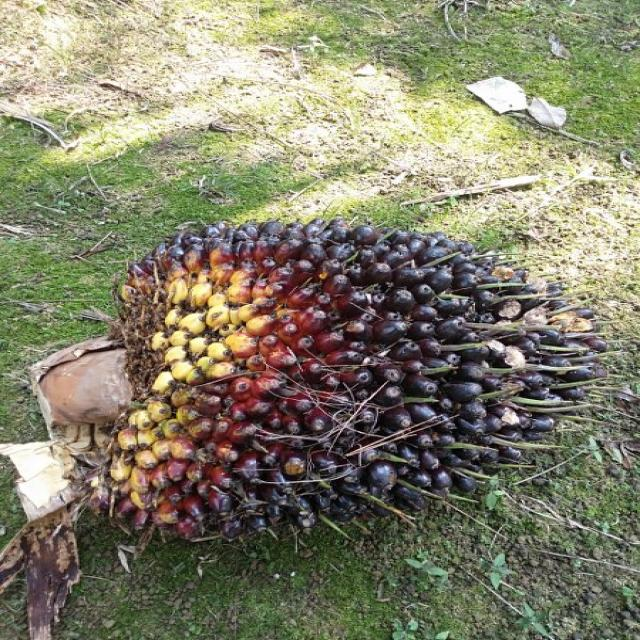fraksi 00: (91, 224, 576, 550)
